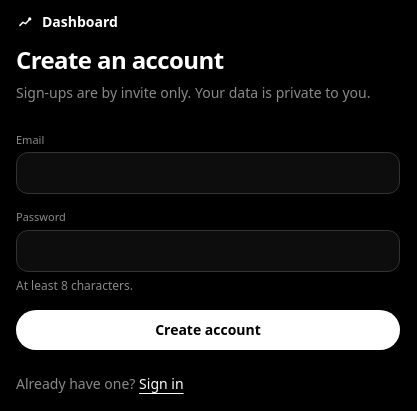
it: RegisterPage › maps ApiError.details to per-field errors instead of also showing the generic banner
In the field labelled "Email": (208, 173) [16,152,400,194], type "a@b.com"
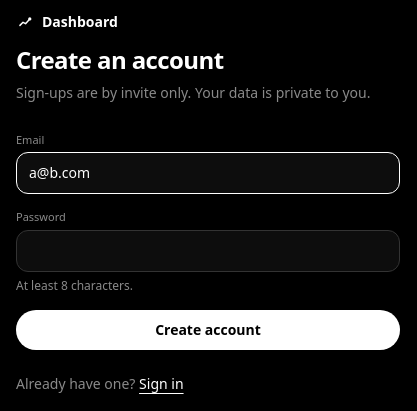
In the password field labelled "Password": (208, 251) [16,230,400,272], type "short"
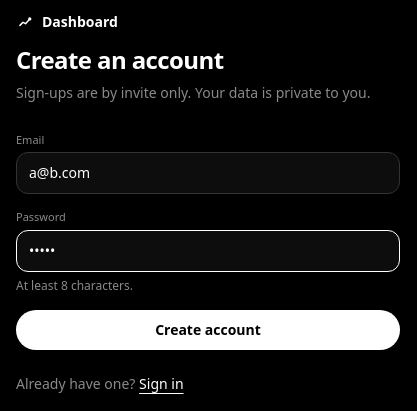
Click the button "Create account": (208, 330) [16,310,400,350]
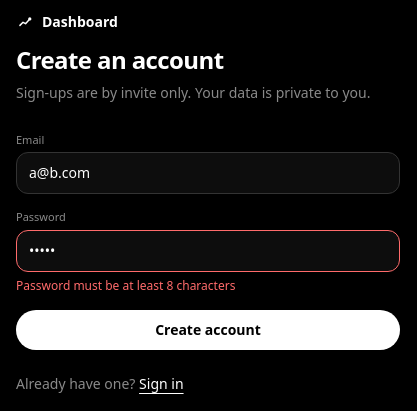
Check: the message reads "Password must be at least 8 characters", box [16,277,235,294]
Check: the number of messages is 1, box [16,277,235,294]
